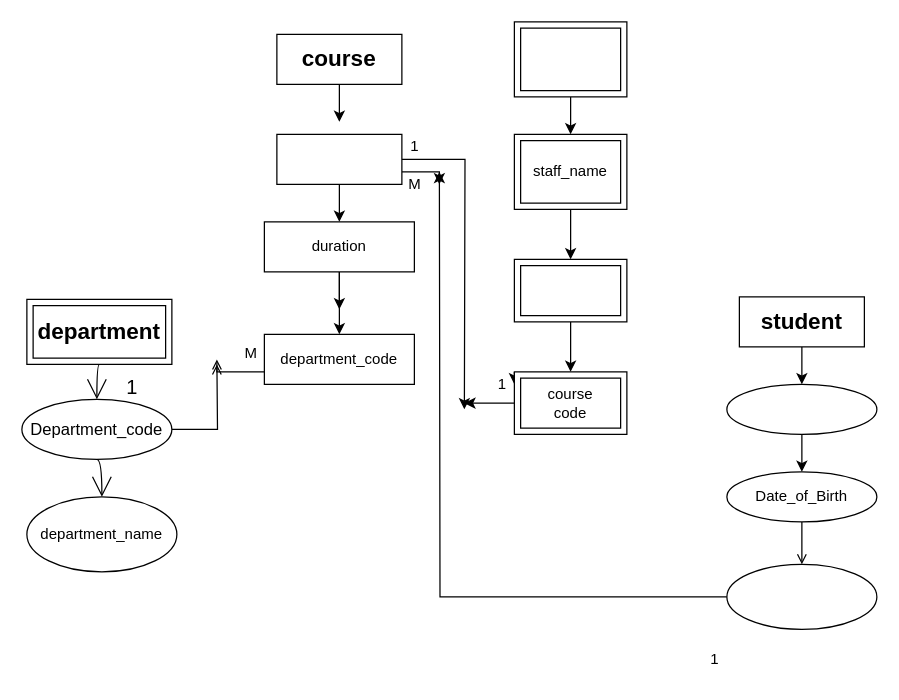
Some shapes in this 899 by 700 pixel diagram are drawn without their labels. Here are the shapes that lost their labels. From the top down, the centre of each, then its label:
the point at 570,59: staff
the point at 339,158: course_code
the point at 570,290: staff_mobile
the point at 801,408: Roll no
the point at 801,596: course _code
